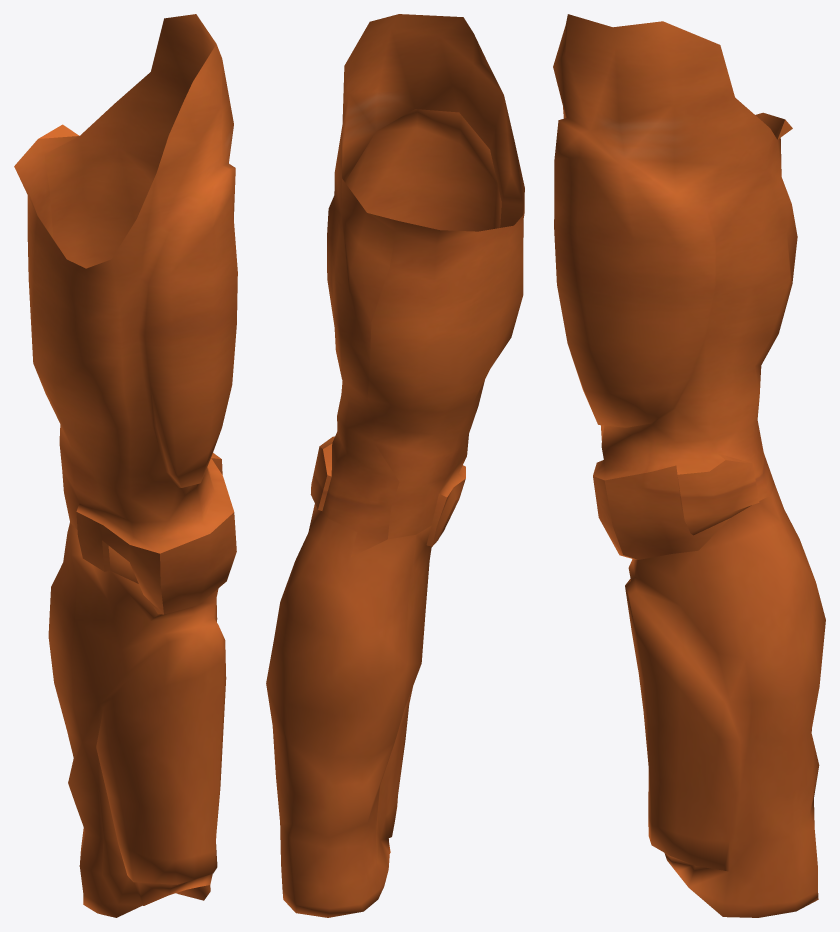
The model's file is legleft.fbx.
3 views of the same model, side by side, from view 1: azimuth 30°, elevation 25°; view 2: azimuth 150°, elevation 25°; view 3: azimuth 270°, elevation 25° (orthographic). The views are drawn at different scales.
Parts seen in each view (by area): view 1: legleft; view 2: legleft; view 3: legleft.
Boxes of the visible parts, x1=… form: legleft: x1=14, y1=14, x2=237, y2=917; legleft: x1=266, y1=14, x2=524, y2=917; legleft: x1=553, y1=14, x2=825, y2=917.
Size of the model in its own units: 13.66 by 59.47 by 16.68.
